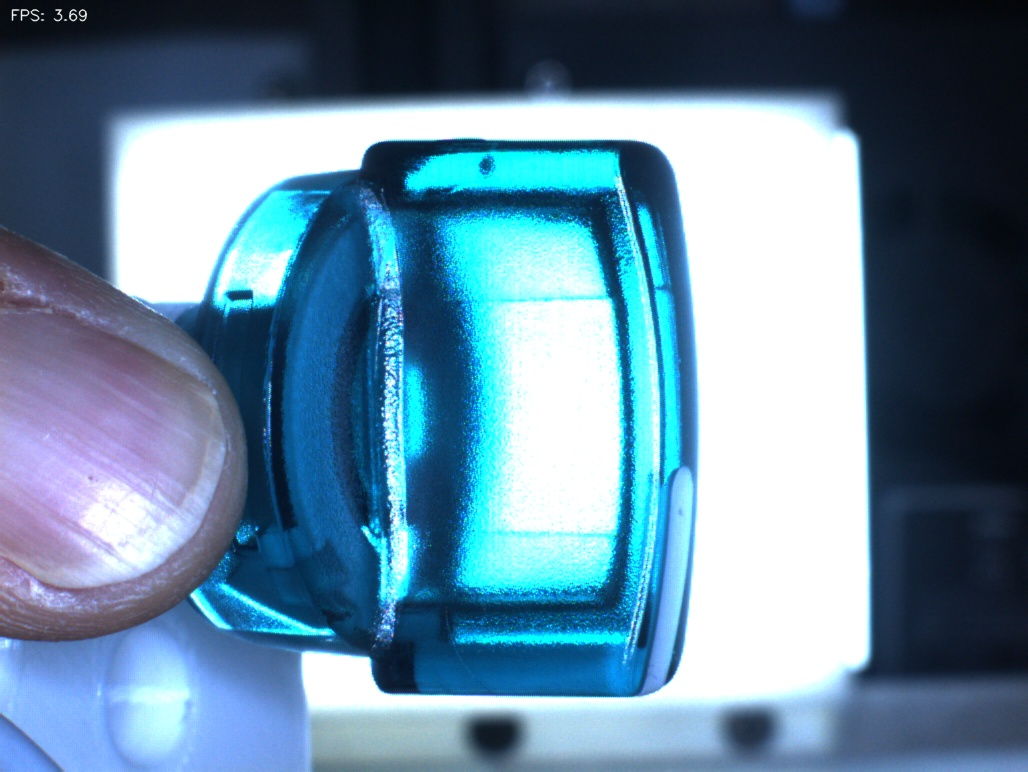Bulle: (447, 121, 524, 209)
